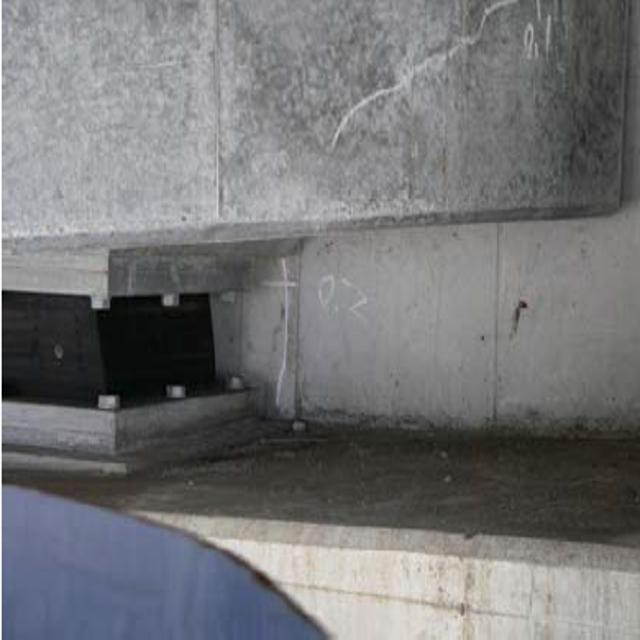crack: (317, 29, 526, 177)
